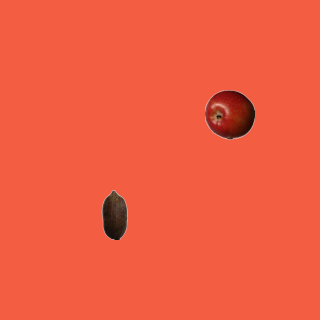Apple Braeburn: (204, 89, 254, 139)
Nut Pecan: (89, 189, 139, 239)
